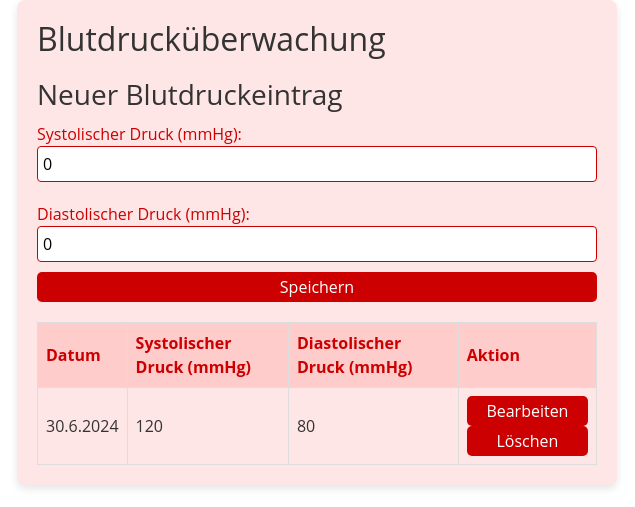
Test: BloodPressure.vue › sollte einen Blutdruckeintrag löschen
The width and height of the screenshot is (635, 507).
Click the button with class "btn-delete": {"x": 527, "y": 441} [467,426,588,456]
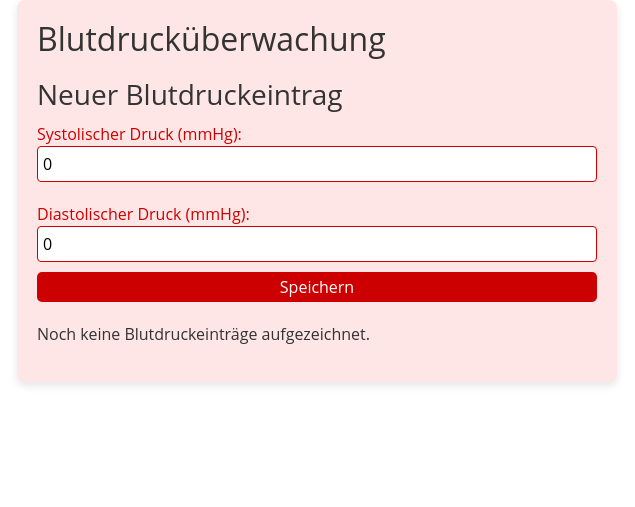
Check: no rows are shown
